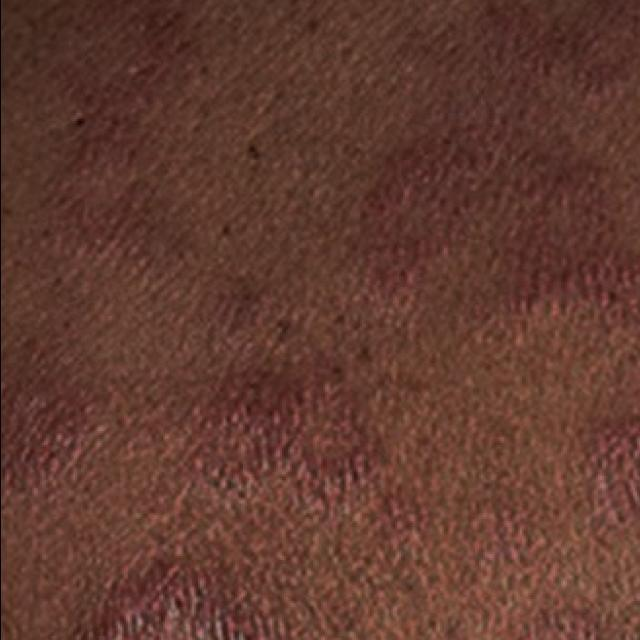Leprosy: (343, 0, 640, 363), (20, 1, 216, 294), (191, 338, 400, 522), (0, 320, 115, 510), (66, 544, 288, 640)
